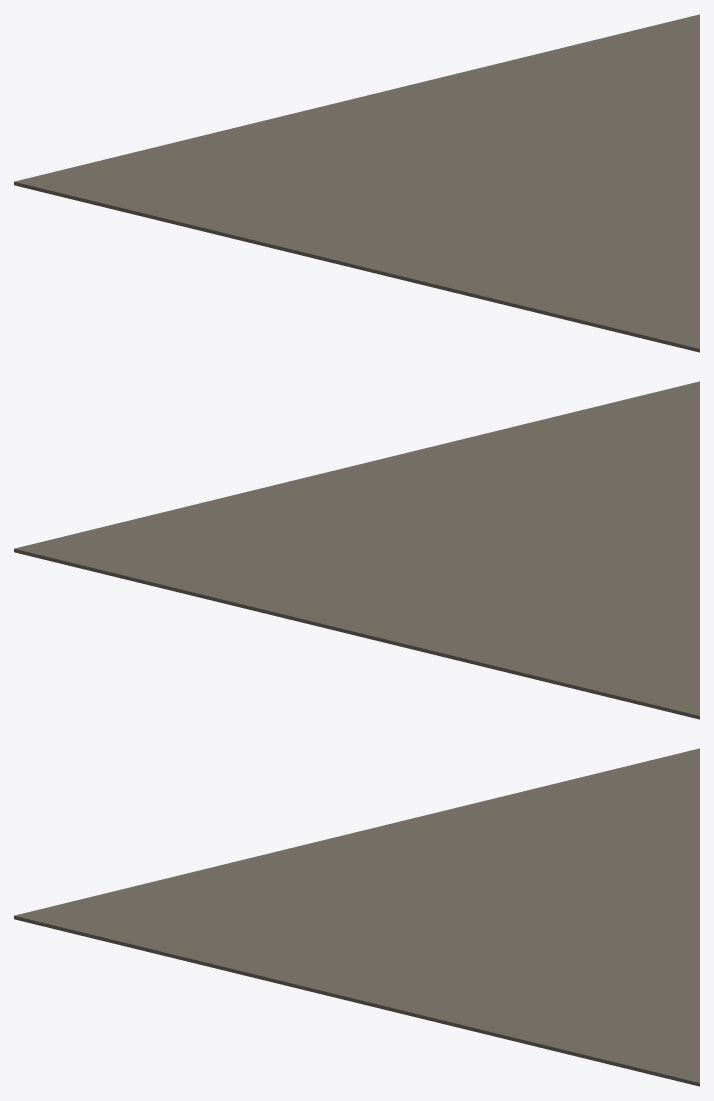
File: triangle_prop.glb
3 renders of one model, top to bottom at view 1: azimuth 30°, elevation 25°; view 2: azimuth 150°, elevation 25°; view 3: azimuth 270°, elevation 25°, orthographic.
Parts seen in each view (by area): view 1: Circle.001; view 2: Circle.001; view 3: Circle.001.
Boxes of the visible parts, x1,y1,x2,y2 form: Circle.001: [14, 14, 699, 352]; Circle.001: [14, 381, 699, 719]; Circle.001: [14, 748, 699, 1086].
Bounding box in the file's own units: 2 × 0.01 × 1.73.
Materials: 1 (1 with a texture image).
